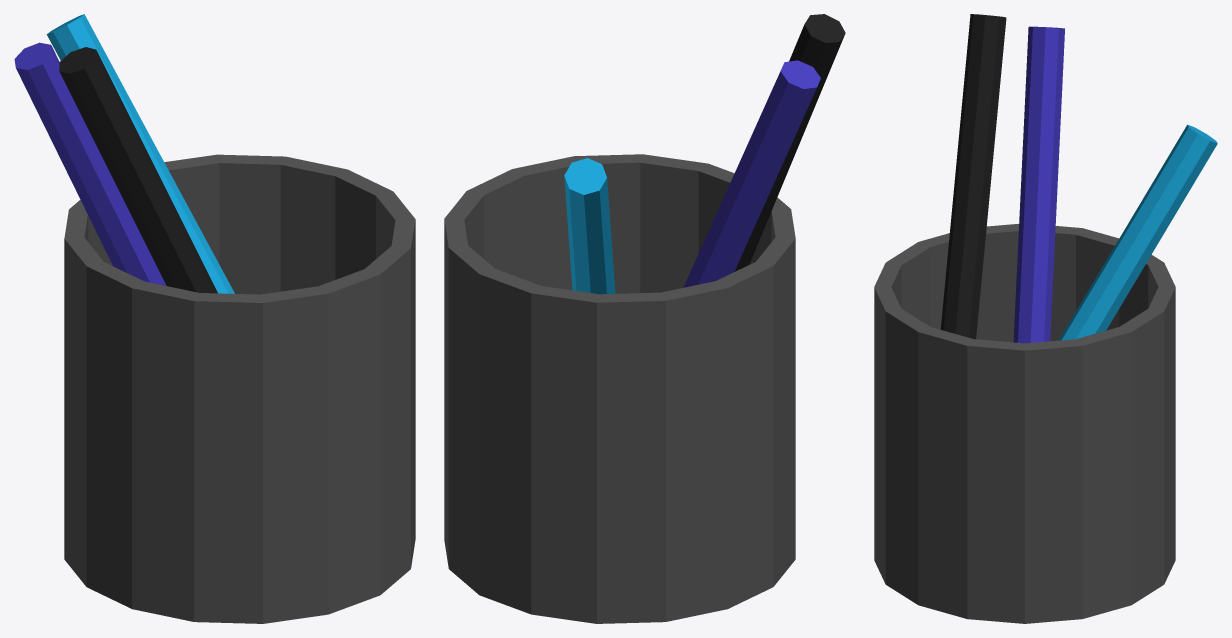
Rendered from PenCup001.fbx.
3 views of the same model, side by side, from view 1: azimuth 30°, elevation 25°; view 2: azimuth 150°, elevation 25°; view 3: azimuth 270°, elevation 25° (orthographic). The views are drawn at different scales.
Visible parts, largest first — view 1: Pen002; view 2: Pen002; view 3: Pen002.
Part boxes in pixels (x1,y1,x2,y2): Pen002: (14, 14, 415, 623); Pen002: (444, 14, 845, 623); Pen002: (874, 14, 1217, 623).
Bounding box in the file's own units: 93.43 × 137 × 89.72.
